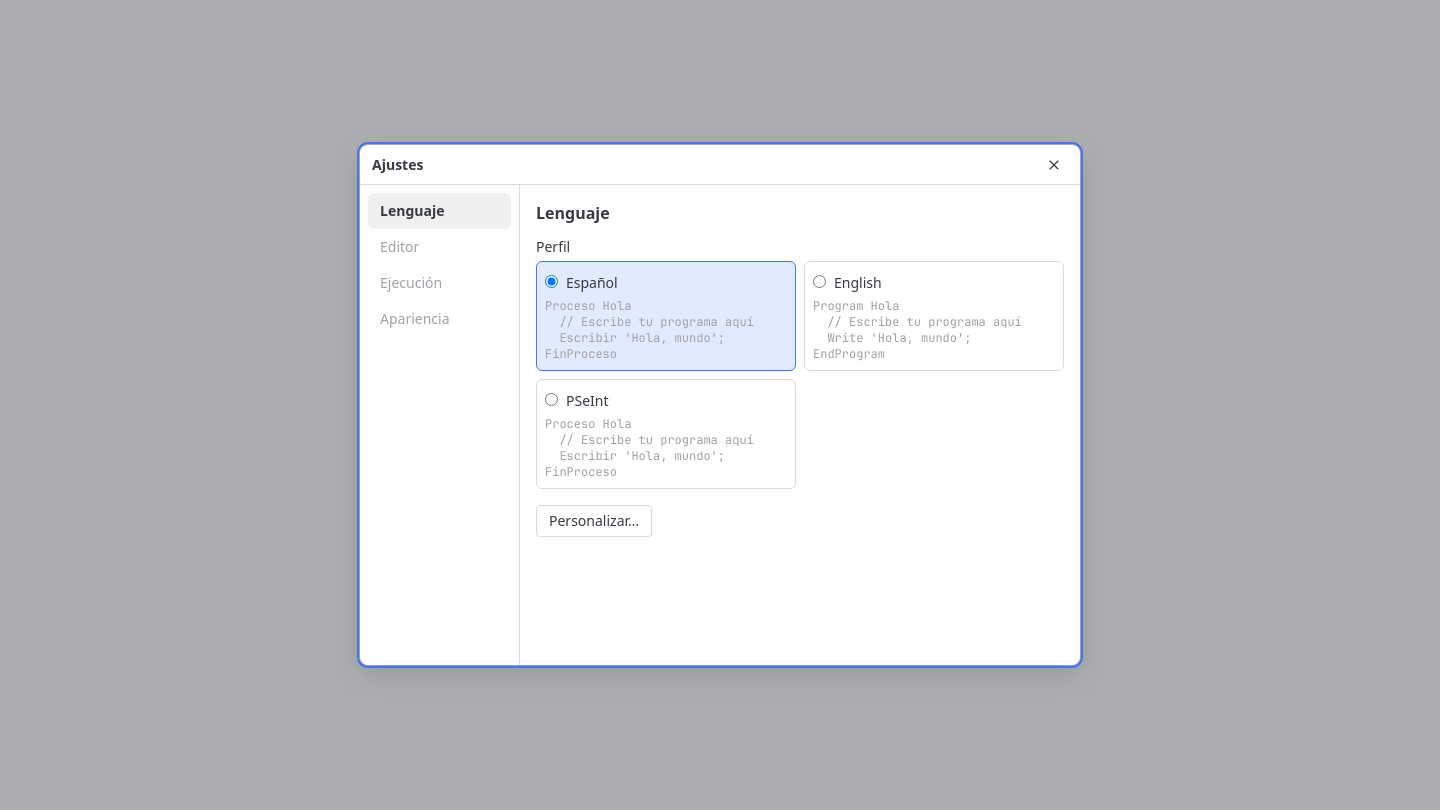
Test: Settings › switches profile and opens the builder
Click the radio button labelled "English": x=820, y=282 [813,275,826,288]
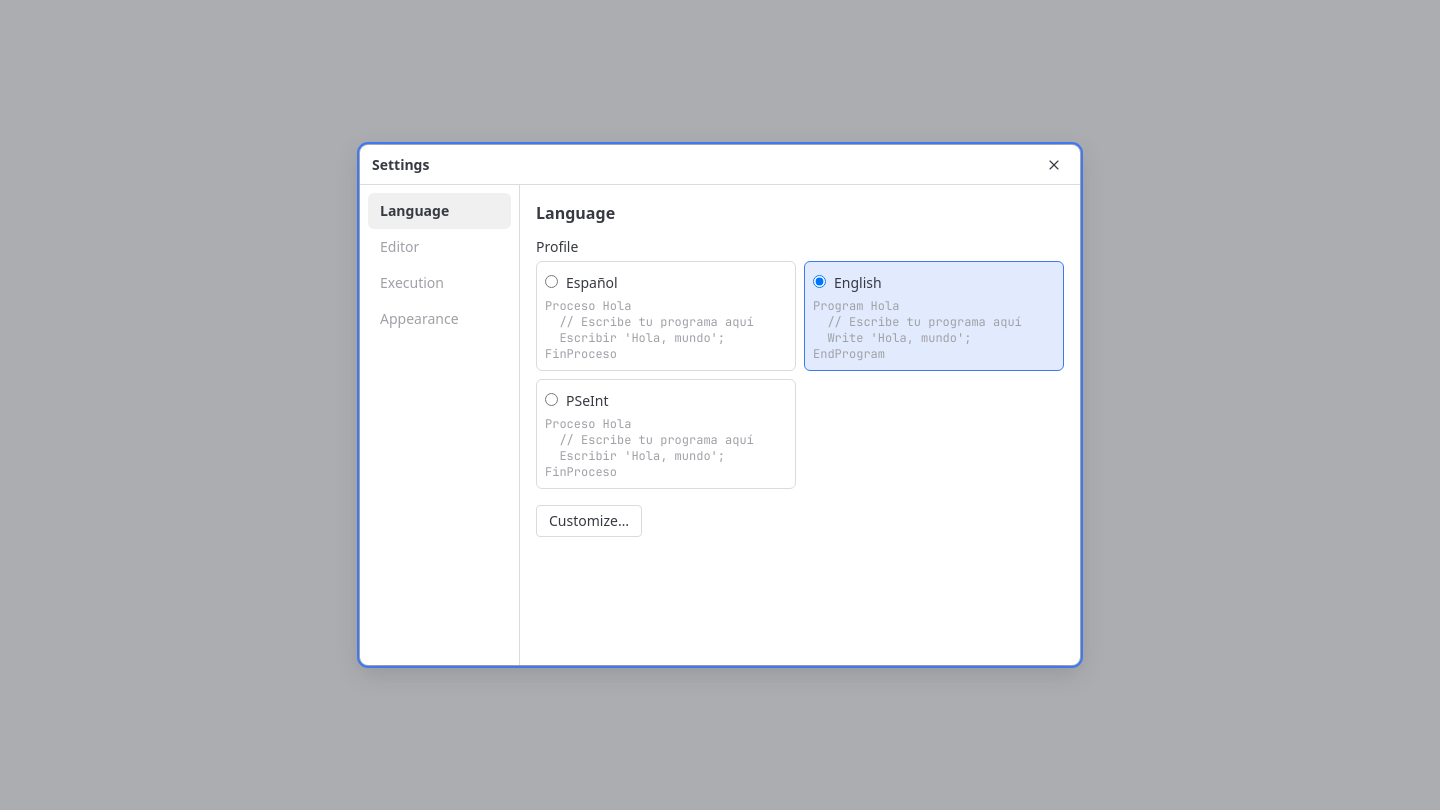
Click the button "Customize…": x=589, y=521 [536,505,642,537]
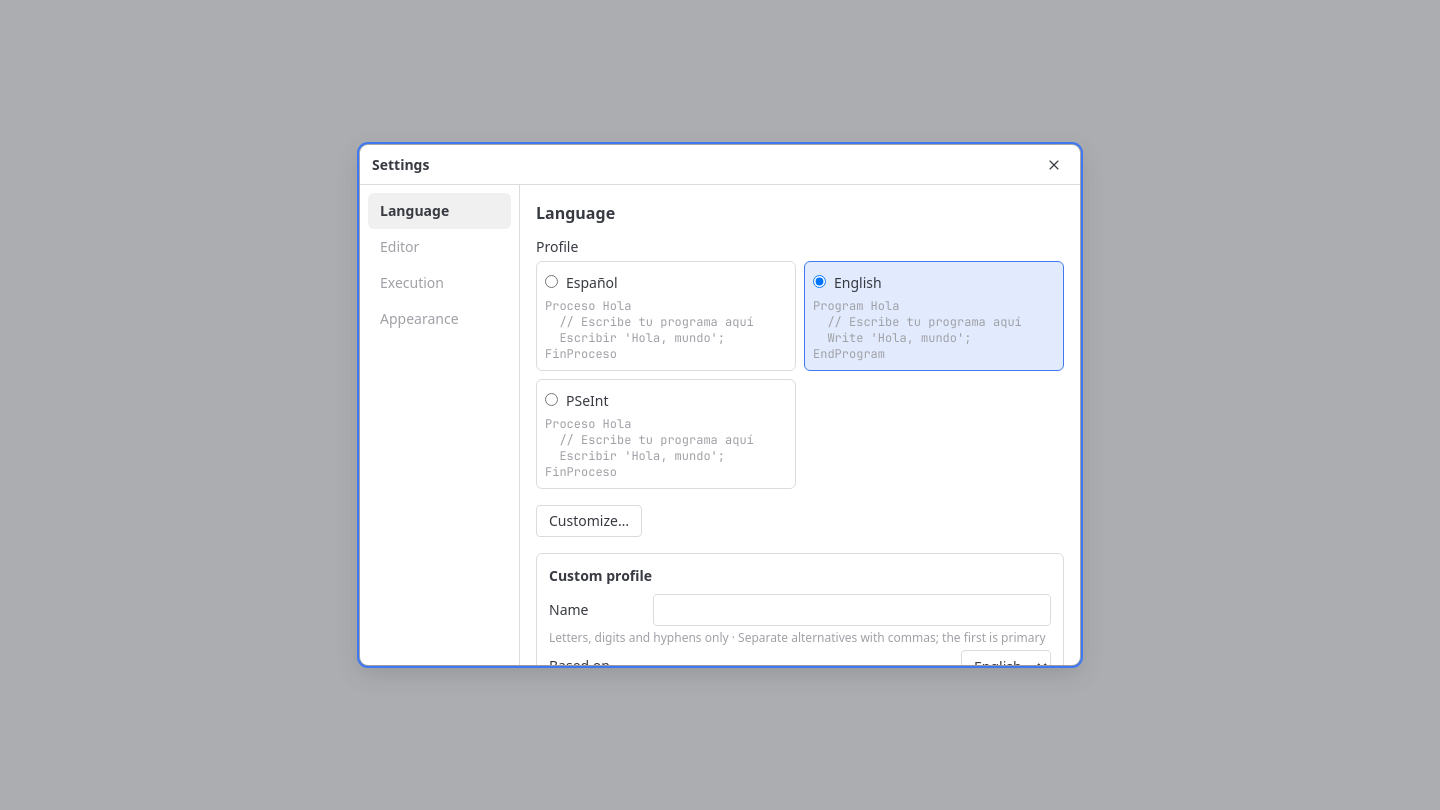
expect the field labelled "Name" is shown: met, box [653,594,1051,626]
